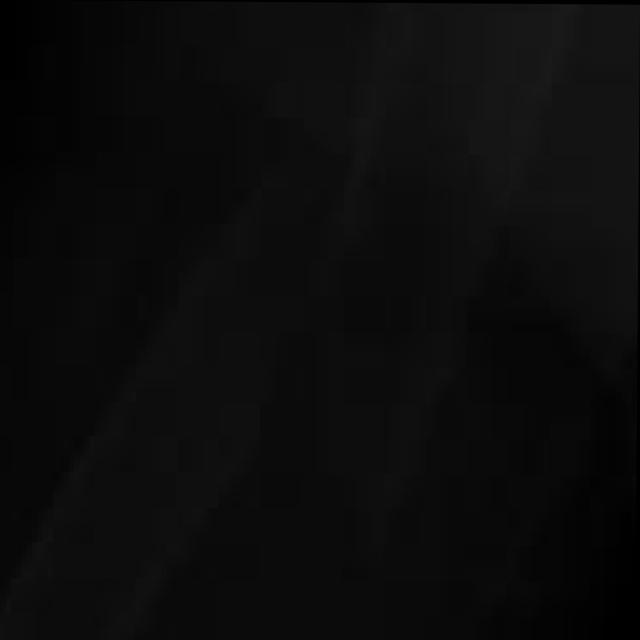fracture: (0, 1, 640, 640)
